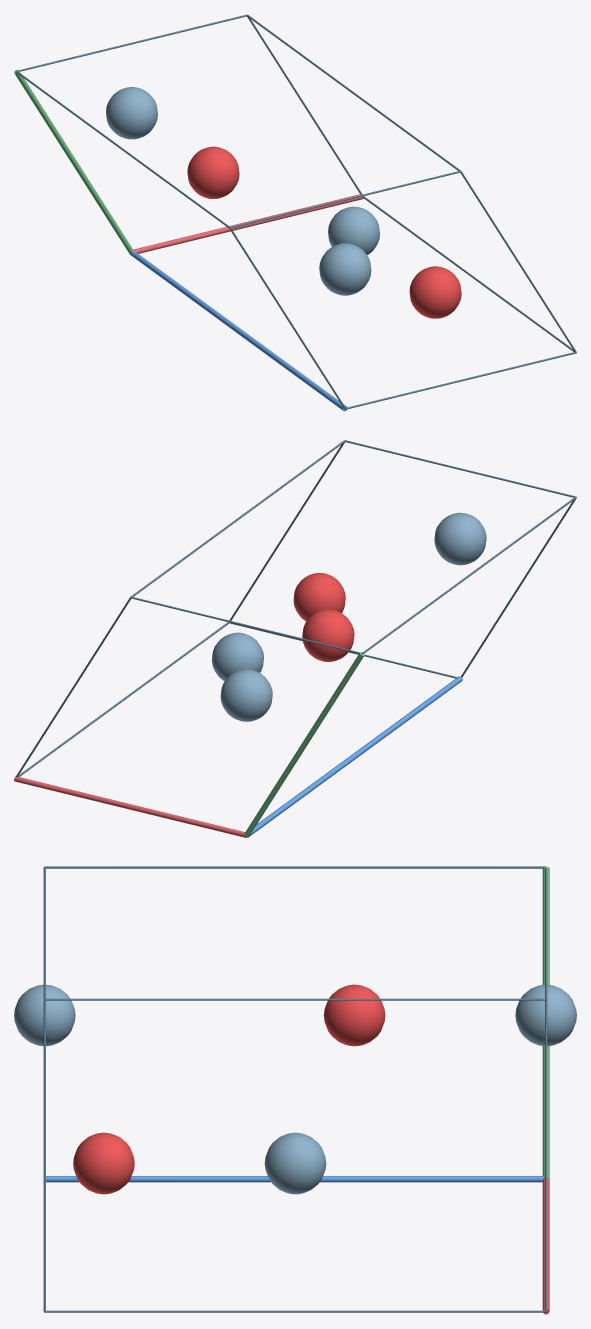
File: chat-zincite.glb
The picture shows the model from 3 angles, top to bottom: view 1: azimuth 30°, elevation 25°; view 2: azimuth 150°, elevation 25°; view 3: azimuth 270°, elevation 25°; orthographic projection. The views are drawn at different scales.
Visible parts, largest first — view 1: Ô mạng và các trục a, b, c, Zn · Zn · 1 (×3), O · O · 1 (×2); view 2: Ô mạng và các trục a, b, c, Zn · Zn · 1 (×3), O · O · 1 (×2); view 3: Ô mạng và các trục a, b, c, Zn · Zn · 1 (×3), O · O · 1 (×2).
Part boxes in pixels (bbox=[...]): Ô mạng và các trục a, b, c: bbox=[14, 14, 576, 411]; Zn · Zn · 1 (×3): bbox=[106, 87, 379, 295]; O · O · 1 (×2): bbox=[187, 146, 461, 318]; Ô mạng và các trục a, b, c: bbox=[14, 440, 576, 837]; Zn · Zn · 1 (×3): bbox=[212, 512, 486, 721]; O · O · 1 (×2): bbox=[293, 573, 354, 661]; Ô mạng và các trục a, b, c: bbox=[43, 866, 549, 1314]; Zn · Zn · 1 (×3): bbox=[14, 984, 576, 1194]; O · O · 1 (×2): bbox=[73, 984, 385, 1194].
Bounding box in the file's own units: 4.92 × 2.87 × 5.84.
